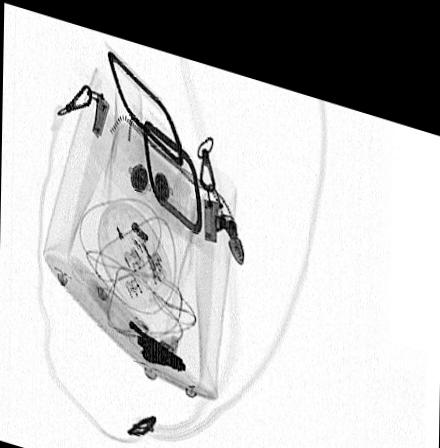Gun: (125, 312, 189, 365)
